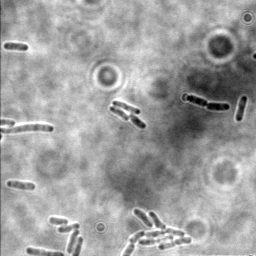Dividing: (186, 94, 231, 112)
Microcolony: (119, 206, 193, 255), (49, 215, 85, 255)
Rod: (1, 122, 55, 134), (111, 99, 141, 116), (5, 179, 37, 192), (235, 94, 249, 123), (2, 41, 30, 53), (109, 106, 130, 122), (128, 115, 148, 130)
